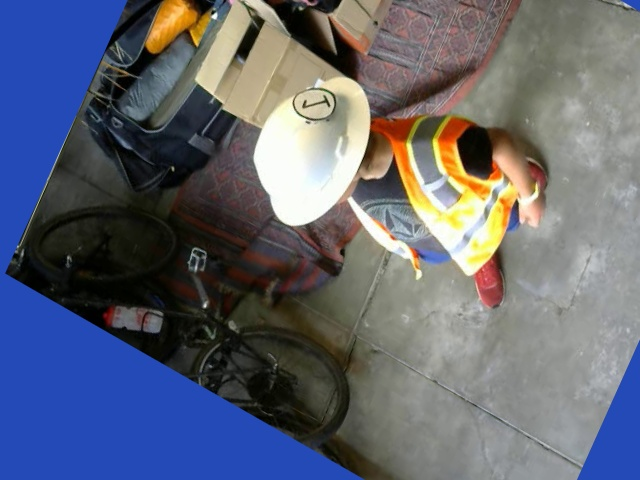one: (287, 75, 338, 129)
